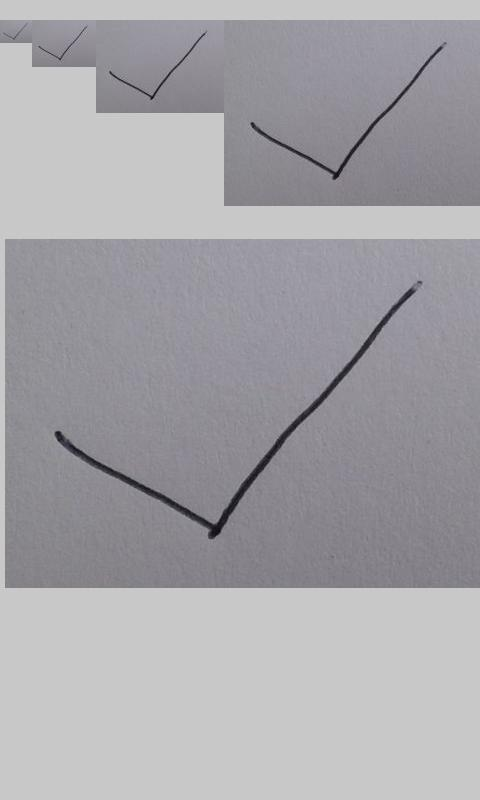check_box: (56, 284, 419, 535), (249, 43, 446, 180), (109, 32, 206, 100), (38, 26, 88, 61), (3, 23, 27, 40)
